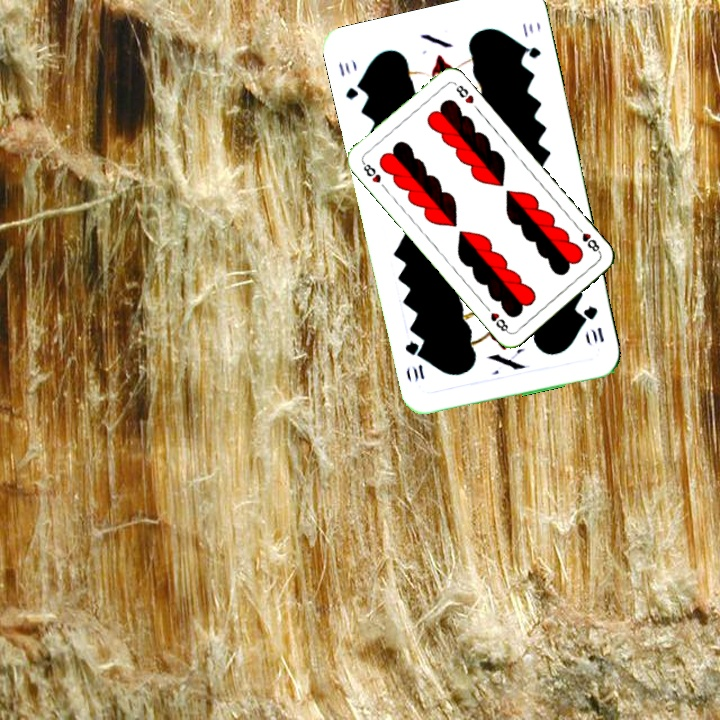G10: (334, 57, 367, 103), (579, 302, 607, 345)
H8: (572, 222, 603, 256), (358, 157, 383, 186)
